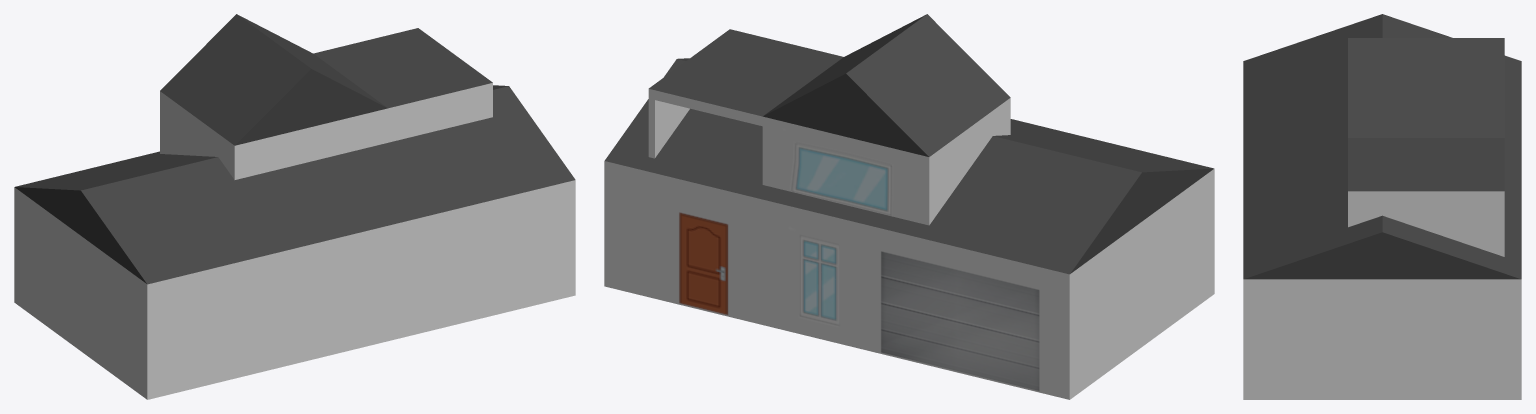
File: CasaPorao.fbx
3 views of the same model, side by side, from view 1: azimuth 30°, elevation 25°; view 2: azimuth 150°, elevation 25°; view 3: azimuth 270°, elevation 25° (orthographic). The views are drawn at different scales.
Parts seen in each view (by area): view 1: CasaPorao; view 2: CasaPorao; view 3: CasaPorao.
Boxes of the visible parts, <box> form: CasaPorao: <box>14,14,575,399</box>; CasaPorao: <box>604,14,1214,399</box>; CasaPorao: <box>1243,14,1521,399</box>.
Size of the model in its own units: 2431 by 1314 by 1309.
